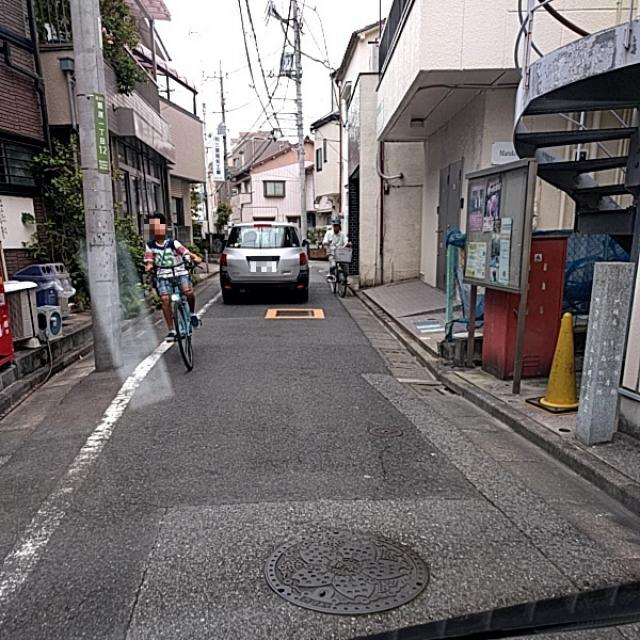pothole: (122, 484, 184, 579)
